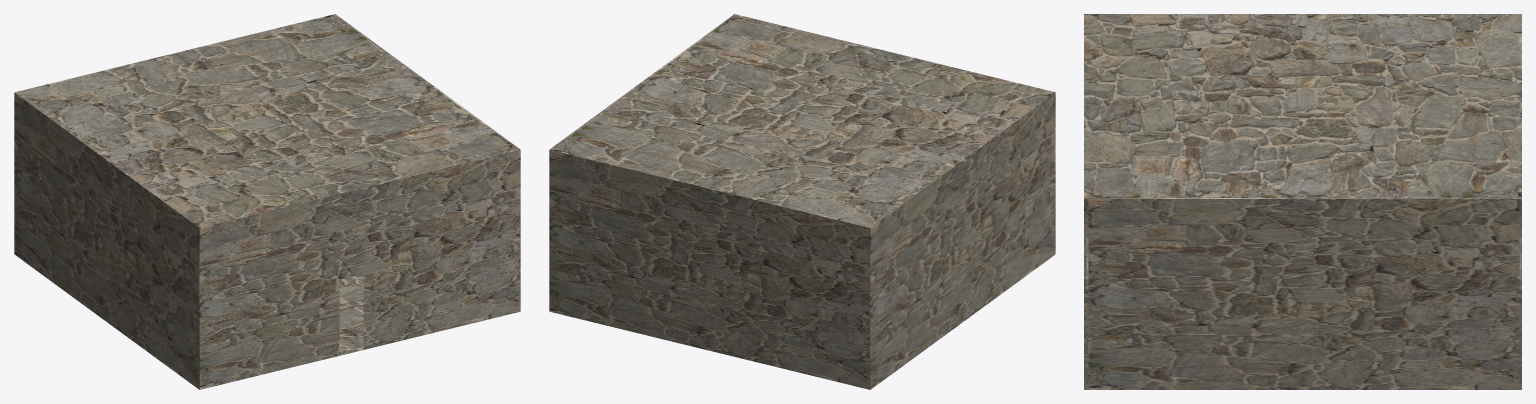
Rendered from pomieszczenie.fbx.
The picture shows the model from 3 angles, left to right: view 1: azimuth 30°, elevation 25°; view 2: azimuth 150°, elevation 25°; view 3: azimuth 270°, elevation 25°; orthographic projection. The views are drawn at different scales.
Visible parts, largest first — view 1: Cube; view 2: Cube; view 3: Cube.
Boxes of the visible parts, x1,y1,x2,y2 form: Cube: (14,14,520,389); Cube: (549,14,1055,389); Cube: (1084,14,1521,389).
Size of the model in its own units: 877 by 423 by 877.
